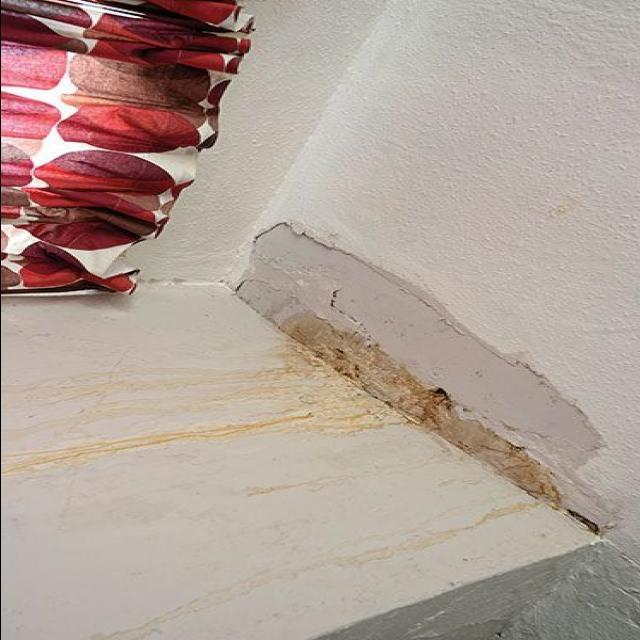leak: (235, 214, 615, 534)
